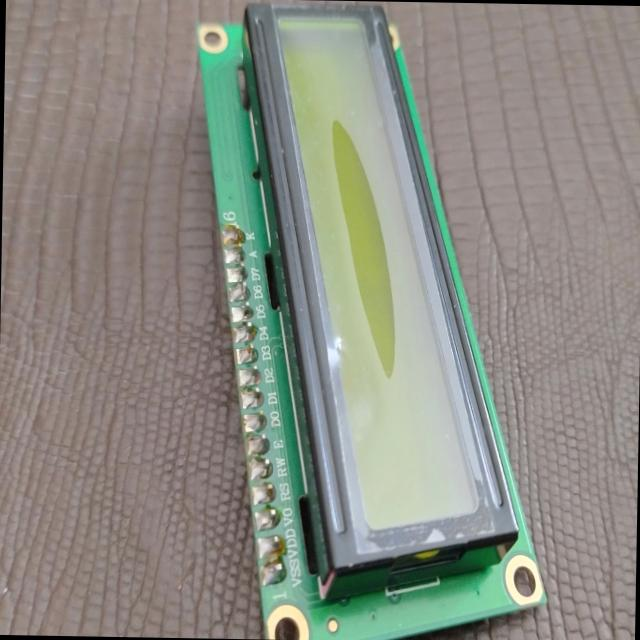lcd: (185, 0, 557, 640)
